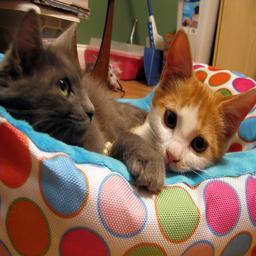cat: (34, 18, 256, 256), (142, 42, 256, 256)
